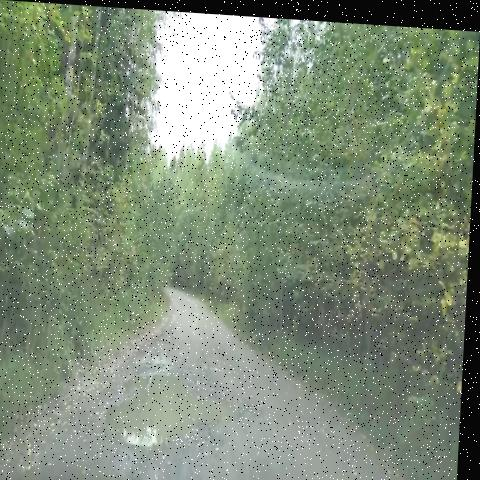pothole: (94, 345, 261, 469)
